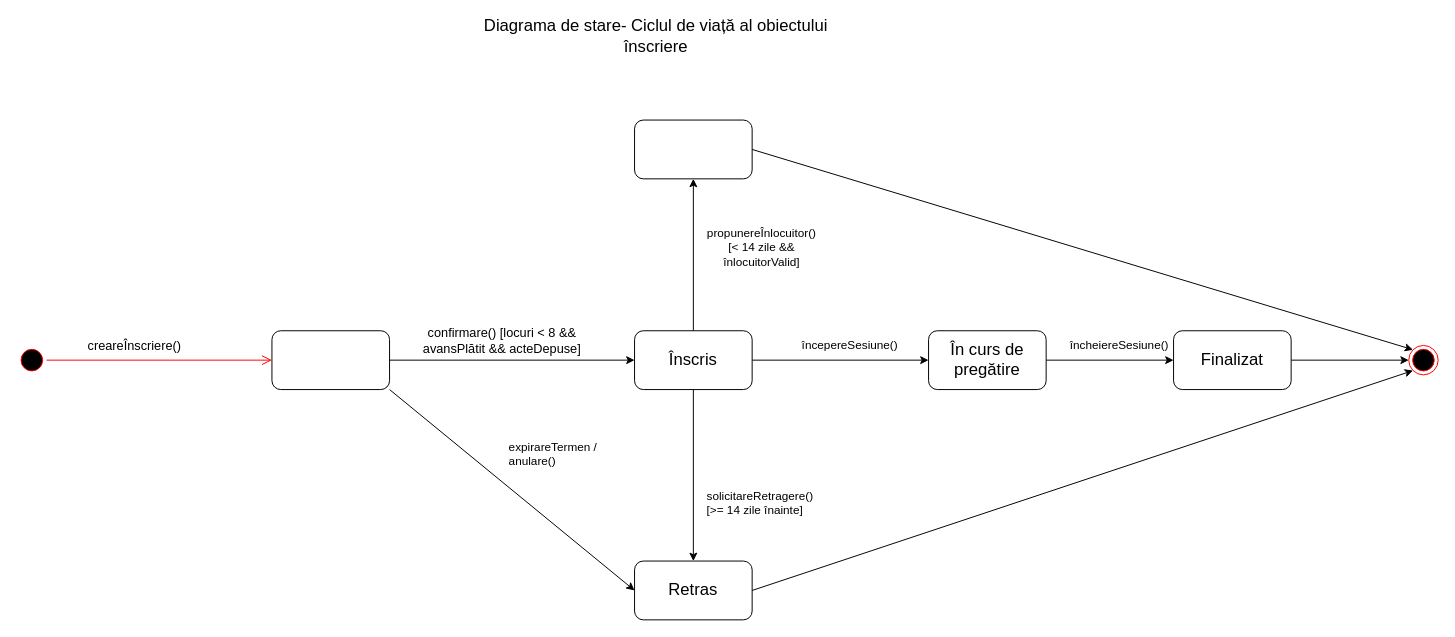
The diagram is 1455 pixels wide and 637 high, and some of its shapes have lost their labels. The shapes that lost their labels are listed below. From the top down, each one's centre as x and y in pixels, then its label:
(x=693, y=149): Înlocuit
(x=330, y=360): În așteptare
